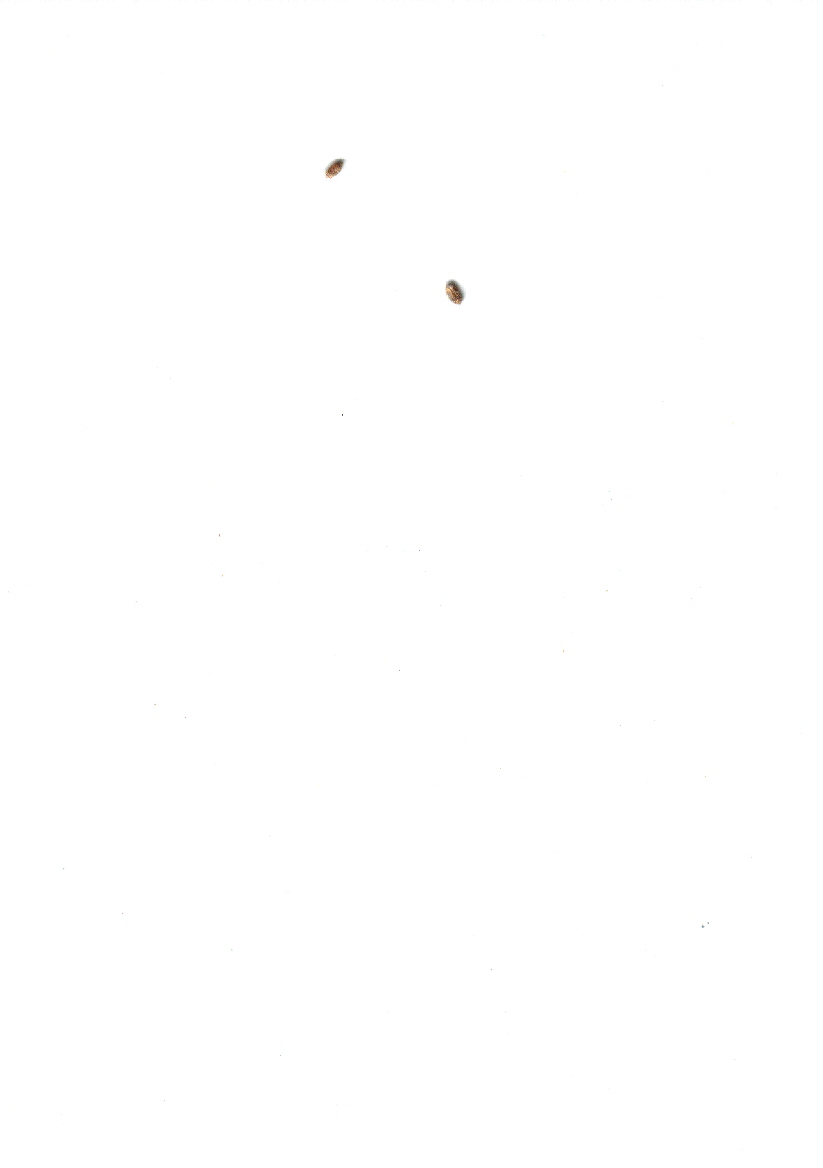grains: (429, 271, 488, 321), (312, 147, 358, 195)
